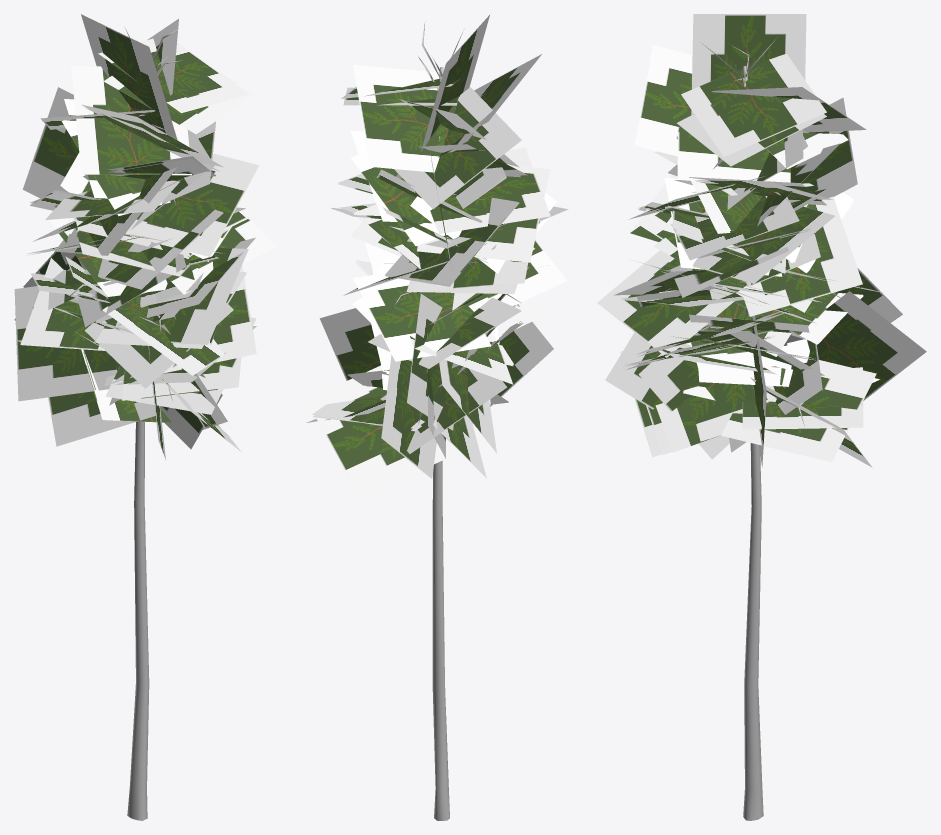
The model's file is TallSpruceReduced 1.fbx.
3 views of the same model, side by side, from view 1: azimuth 30°, elevation 25°; view 2: azimuth 150°, elevation 25°; view 3: azimuth 270°, elevation 25° (orthographic).
Visible parts, largest first — view 1: Tall_Spruce_Reduced_LOD0; view 2: Tall_Spruce_Reduced_LOD0; view 3: Tall_Spruce_Reduced_LOD0.
Part boxes in pixels (<box>): Tall_Spruce_Reduced_LOD0: <box>14,14,276,820</box>; Tall_Spruce_Reduced_LOD0: <box>306,15,568,820</box>; Tall_Spruce_Reduced_LOD0: <box>597,14,926,820</box>.
Size of what is drawn, in the model's own units: 995 by 3461 by 1303.
